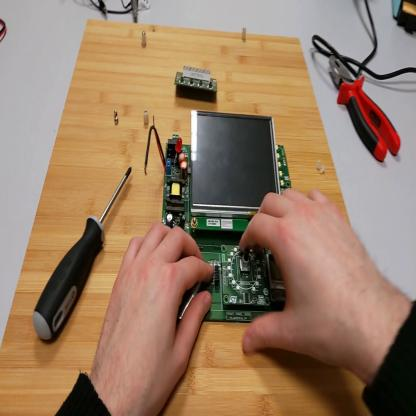hand: (239, 186, 384, 371), (94, 223, 215, 406)
low voltage board: (146, 110, 294, 326)
oscilloscope probe tip: (131, 1, 140, 24)
pliers: (330, 54, 403, 163)
screwdriver-: (33, 167, 135, 346)
welder station: (392, 2, 416, 36)
working area: (2, 21, 374, 415)
